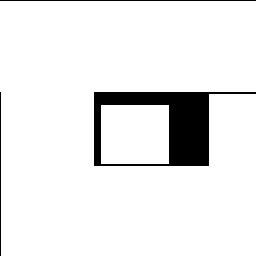rumex: (0, 1, 255, 91), (1, 90, 93, 255), (94, 166, 210, 256), (209, 94, 256, 256), (101, 105, 168, 163)
